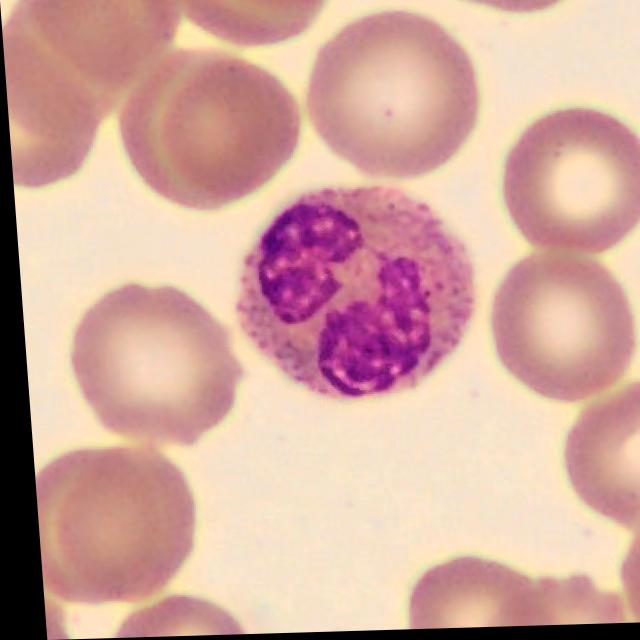Neutrofilo segmentado: (233, 190, 470, 400)
